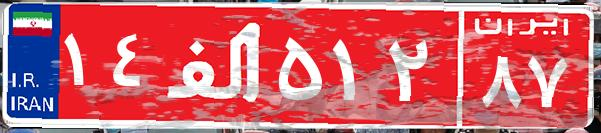1: (330, 28, 385, 110), (57, 26, 110, 107)
2: (385, 28, 445, 110)
4: (110, 28, 158, 105)
5: (273, 28, 330, 110)
7: (525, 38, 570, 115)
8: (475, 38, 525, 113)
الف: (158, 15, 273, 115)
